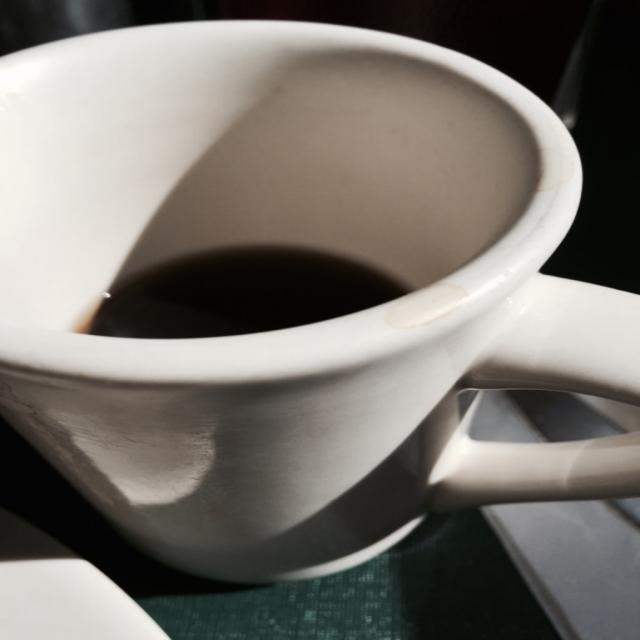Coffee: (69, 250, 409, 338)
